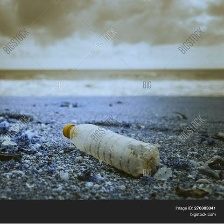bottle: (61, 121, 162, 178)
